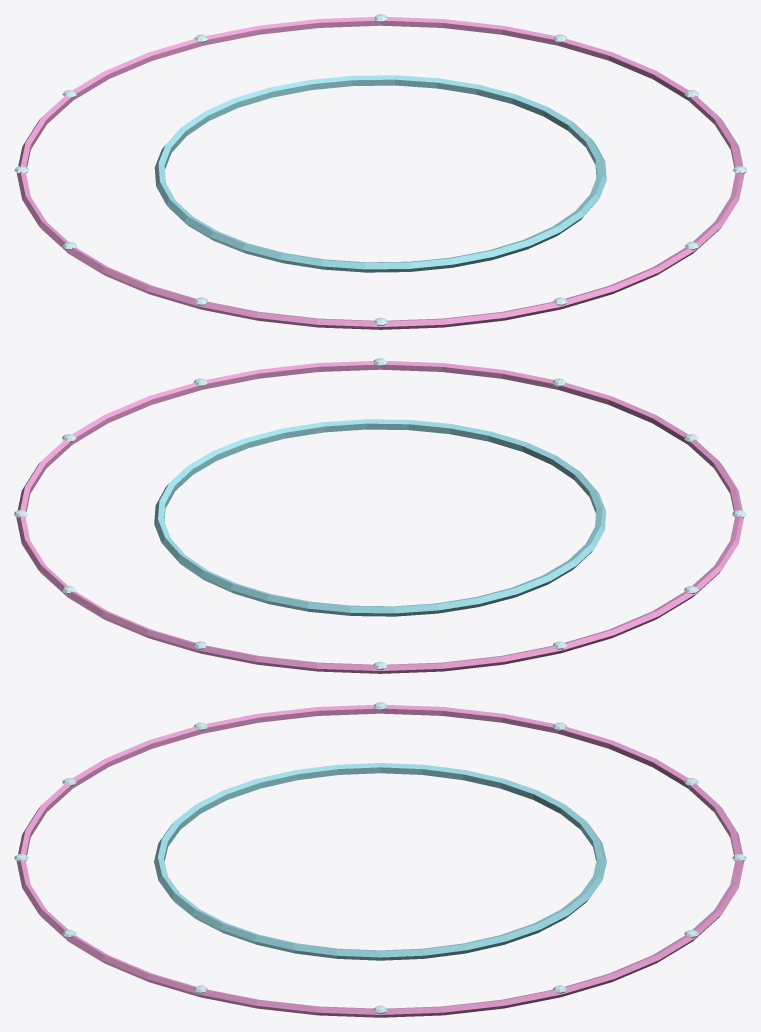
File: anillo_central.glb
3 views of the same model, one above another, from view 1: azimuth 30°, elevation 25°; view 2: azimuth 150°, elevation 25°; view 3: azimuth 270°, elevation 25° (orthographic).
Visible parts, largest first — view 1: anillo_central; view 2: anillo_central; view 3: anillo_central.
Part boxes in pixels (bbox=[...]): anillo_central: bbox=[14, 14, 746, 329]; anillo_central: bbox=[14, 358, 746, 673]; anillo_central: bbox=[14, 702, 746, 1017].
Bounding box in the file's own units: 5.3 × 0.091 × 5.31.
